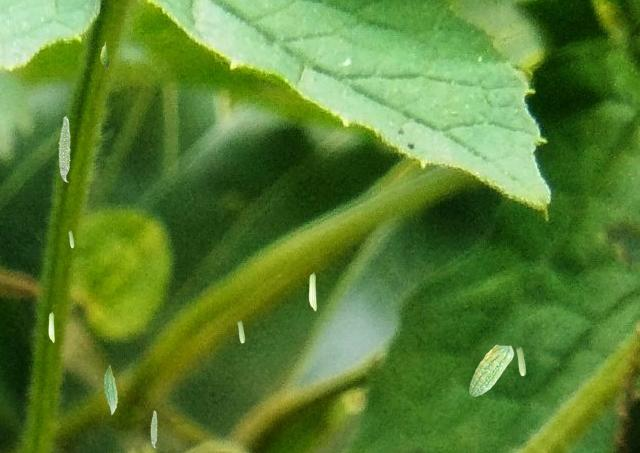ampalaya: (469, 344, 514, 397), (58, 115, 71, 182), (103, 365, 118, 415), (308, 272, 317, 311), (516, 346, 526, 376), (99, 41, 109, 69), (150, 410, 157, 448), (48, 311, 55, 343), (237, 320, 245, 343), (68, 230, 74, 248)
